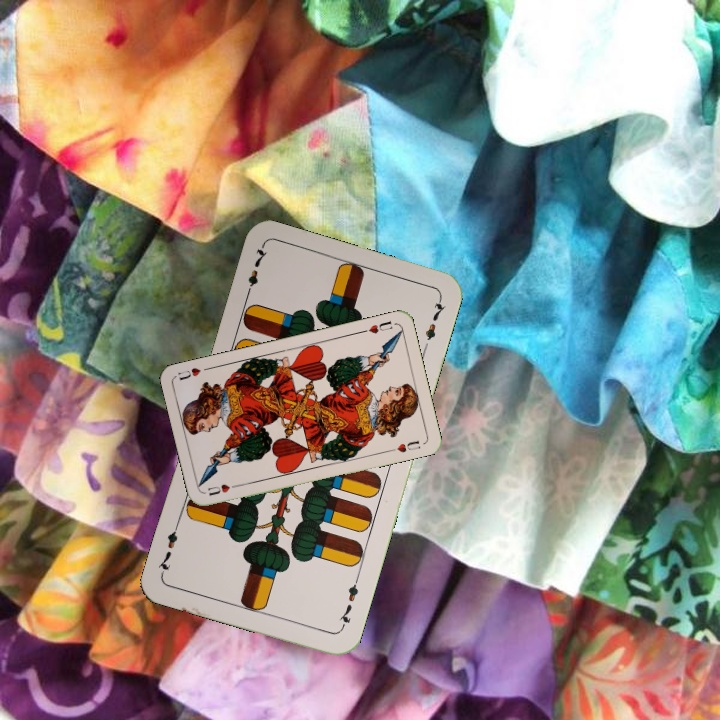E7: (241, 243, 270, 301), (335, 574, 362, 632)
HU: (357, 317, 395, 336), (204, 480, 242, 498)
